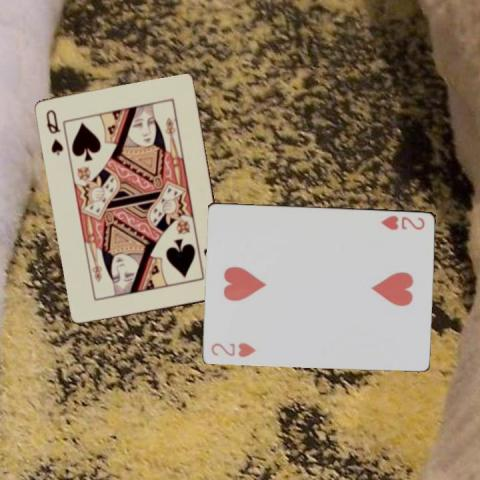2h: (208, 339, 258, 358), (378, 212, 427, 231)
Qs: (43, 107, 65, 156)
